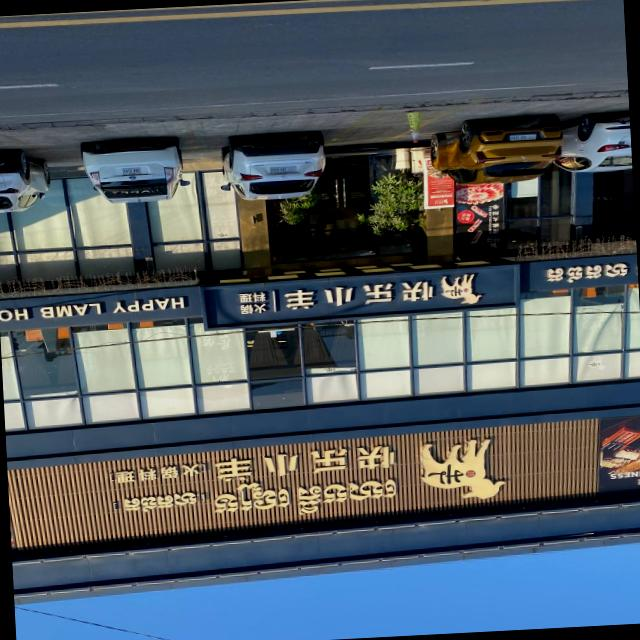1: (213, 472, 401, 527)
Yolov11_80vkh: (539, 258, 633, 287), (120, 489, 198, 514)
